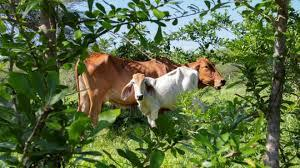cow: (75, 53, 226, 128), (121, 66, 199, 128)
